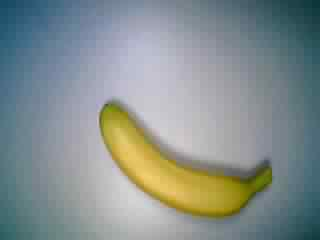banana: (92, 95, 278, 227)
